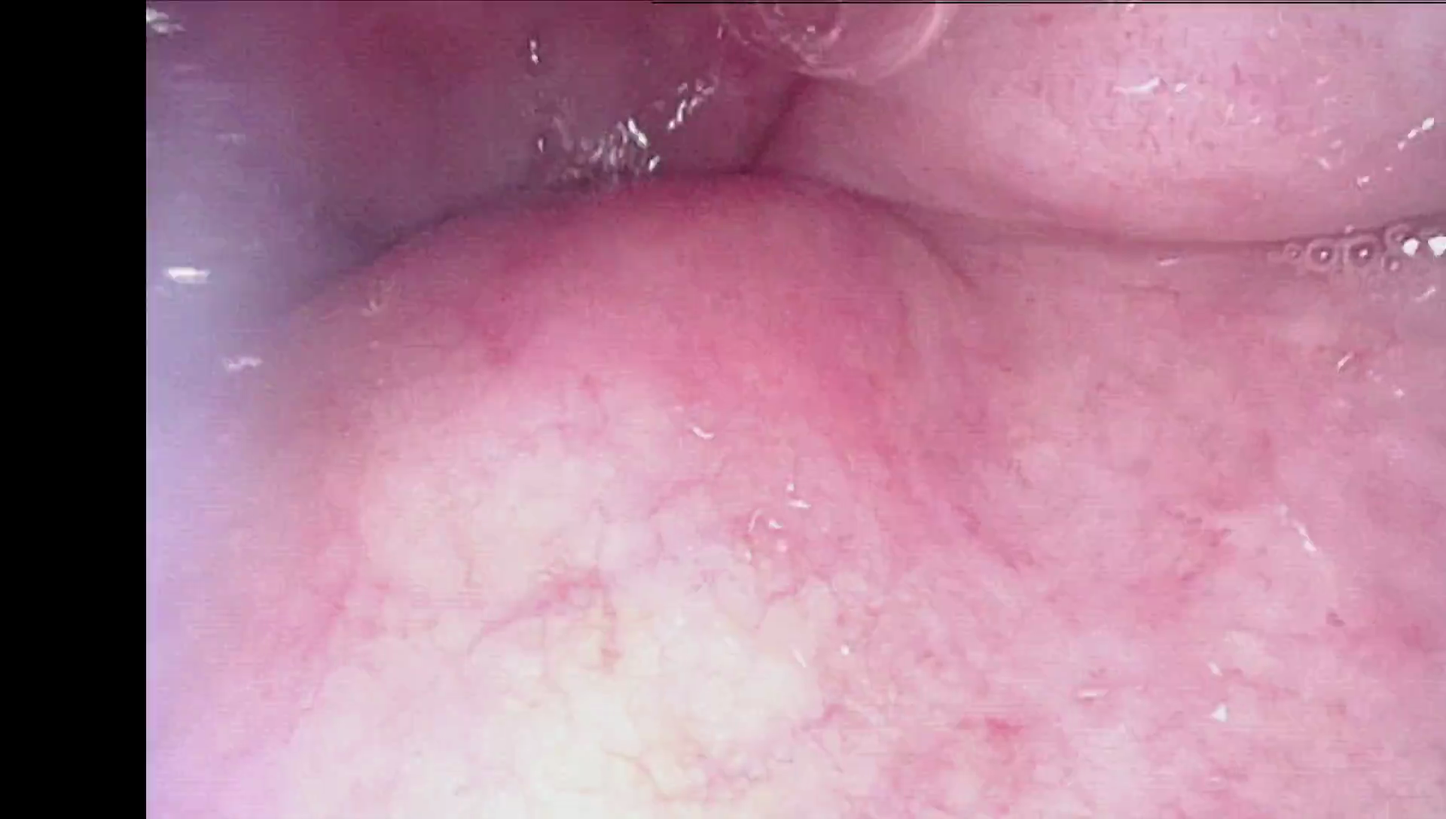close_wall: (224, 363, 1200, 819)
